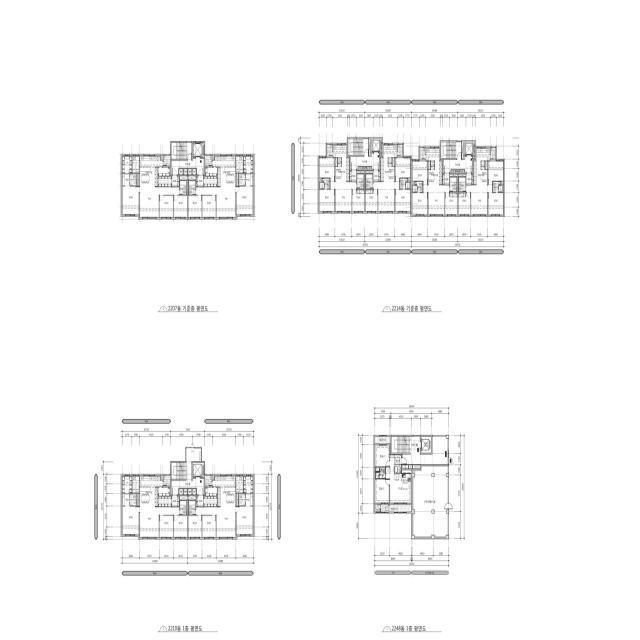space_balconi: (381, 505, 412, 512), (375, 436, 390, 443)
space_bedroom: (122, 186, 139, 215), (122, 506, 139, 535), (237, 186, 253, 215), (237, 506, 253, 535), (395, 157, 411, 181), (488, 160, 504, 184), (319, 157, 334, 181), (412, 160, 427, 184), (488, 193, 504, 215), (395, 190, 411, 212), (375, 479, 389, 503), (412, 193, 427, 215), (319, 190, 334, 212), (188, 516, 202, 538), (188, 196, 202, 218), (202, 196, 216, 218), (159, 196, 173, 218), (202, 516, 216, 538), (159, 516, 173, 538), (375, 445, 389, 466), (174, 196, 187, 218), (174, 516, 187, 538), (365, 190, 378, 212), (458, 193, 470, 215), (352, 190, 364, 212), (445, 193, 457, 215)
space_dressroom: (122, 155, 132, 173), (122, 475, 132, 493), (244, 155, 253, 173), (244, 475, 253, 493)
space_elevator: (421, 437, 431, 453), (193, 143, 204, 157), (193, 463, 204, 477), (372, 139, 382, 152), (465, 142, 475, 155)
space_elevator_hall: (171, 448, 204, 494), (403, 436, 448, 464), (351, 139, 379, 169), (444, 142, 472, 172), (171, 159, 204, 174)
space_front: (204, 176, 217, 186), (204, 496, 217, 506), (158, 177, 171, 186), (158, 497, 171, 506), (390, 455, 402, 464), (373, 170, 380, 181), (172, 176, 179, 186), (196, 176, 203, 186), (172, 496, 179, 506), (196, 496, 203, 506), (466, 174, 473, 184), (350, 170, 356, 181), (443, 174, 449, 184)
space_kitchen: (212, 475, 235, 507), (212, 155, 235, 187), (140, 155, 163, 187), (140, 475, 163, 507), (426, 147, 443, 185), (380, 144, 397, 182), (333, 144, 350, 182), (473, 148, 490, 185), (395, 474, 411, 490), (158, 167, 170, 176), (158, 487, 170, 496), (205, 168, 217, 176), (205, 488, 217, 496)
space_living_room: (196, 187, 236, 218), (139, 187, 179, 218), (196, 507, 236, 538), (139, 507, 179, 538), (386, 458, 411, 503), (373, 182, 399, 212), (466, 185, 492, 215), (423, 185, 449, 215), (330, 182, 356, 212)
space_other: (413, 466, 448, 537), (236, 155, 243, 173), (132, 155, 139, 173), (236, 475, 243, 493), (132, 475, 139, 493), (376, 468, 385, 478), (395, 465, 401, 473), (375, 505, 381, 512), (188, 496, 196, 500), (188, 176, 196, 180), (180, 176, 187, 180), (180, 496, 187, 500), (402, 470, 411, 473), (137, 174, 139, 186), (236, 174, 238, 186), (137, 494, 139, 506), (236, 494, 238, 506), (365, 170, 373, 173), (357, 170, 364, 173), (413, 465, 420, 468), (192, 169, 196, 174), (179, 169, 183, 174), (188, 169, 192, 174), (192, 489, 196, 494), (188, 489, 192, 494), (179, 489, 183, 494), (485, 161, 487, 169), (458, 174, 466, 176), (462, 142, 463, 158), (335, 158, 337, 166), (369, 139, 370, 155), (428, 161, 430, 169), (184, 169, 187, 174), (403, 465, 408, 468), (184, 489, 187, 494), (450, 174, 457, 176), (367, 167, 372, 169), (409, 465, 412, 468), (501, 181, 504, 184), (408, 178, 411, 181), (212, 156, 214, 160), (363, 167, 367, 169), (456, 170, 460, 172), (460, 170, 464, 172), (451, 170, 455, 172), (358, 167, 362, 169), (212, 476, 214, 480), (393, 158, 394, 166), (412, 181, 414, 184), (319, 178, 321, 181), (473, 157, 475, 158), (380, 154, 382, 155)
space_outdoor_room: (205, 155, 212, 166), (205, 475, 212, 486), (164, 155, 170, 166), (164, 475, 170, 486), (491, 147, 496, 160), (420, 147, 425, 160), (398, 144, 403, 156), (327, 144, 332, 156)
space_staircase: (171, 143, 192, 159), (391, 437, 410, 453), (171, 463, 186, 479), (441, 142, 456, 158), (348, 139, 363, 155)
space_toilet: (189, 181, 196, 195), (180, 181, 187, 195), (180, 501, 187, 515), (459, 177, 466, 191), (450, 177, 457, 191), (357, 174, 364, 188), (189, 501, 196, 515), (366, 174, 373, 188), (322, 178, 330, 189), (400, 178, 408, 189), (123, 174, 130, 186), (246, 174, 253, 186), (123, 494, 130, 506), (246, 494, 253, 506), (415, 182, 423, 192), (493, 182, 500, 192), (239, 174, 245, 180), (239, 494, 245, 500), (130, 174, 137, 179), (130, 180, 137, 185), (130, 500, 137, 505), (130, 494, 137, 499), (239, 180, 245, 185), (239, 500, 245, 505), (499, 185, 503, 192), (413, 185, 417, 192), (406, 182, 410, 189), (320, 182, 324, 189)
